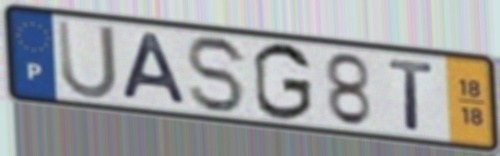8: (322, 50, 374, 128)
A: (119, 30, 191, 108)
G: (250, 40, 315, 124)
S: (184, 33, 250, 116)
T: (386, 56, 438, 134)
U: (54, 16, 121, 102)
